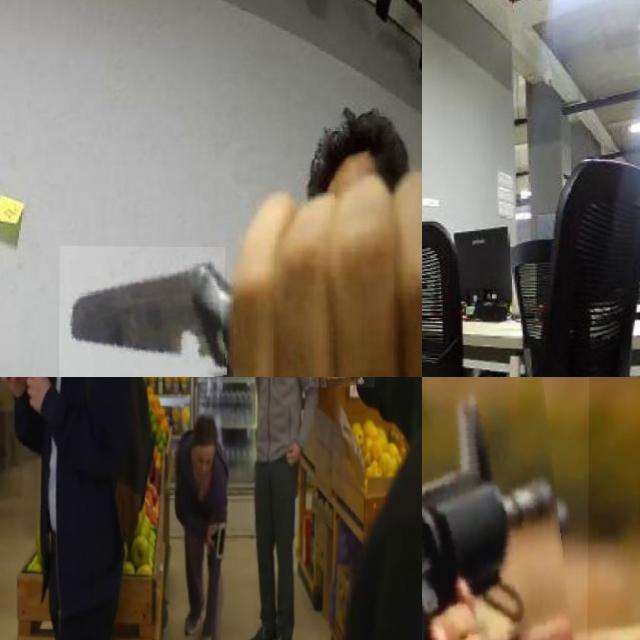-: (59, 245, 225, 377), (422, 93, 434, 169)
gun-knife-thesis - v11 Yolov5 augmented: (422, 377, 627, 640), (310, 377, 376, 445)
